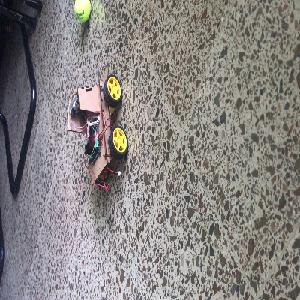Ball: (74, 0, 91, 20)
Robot: (68, 66, 128, 185)
